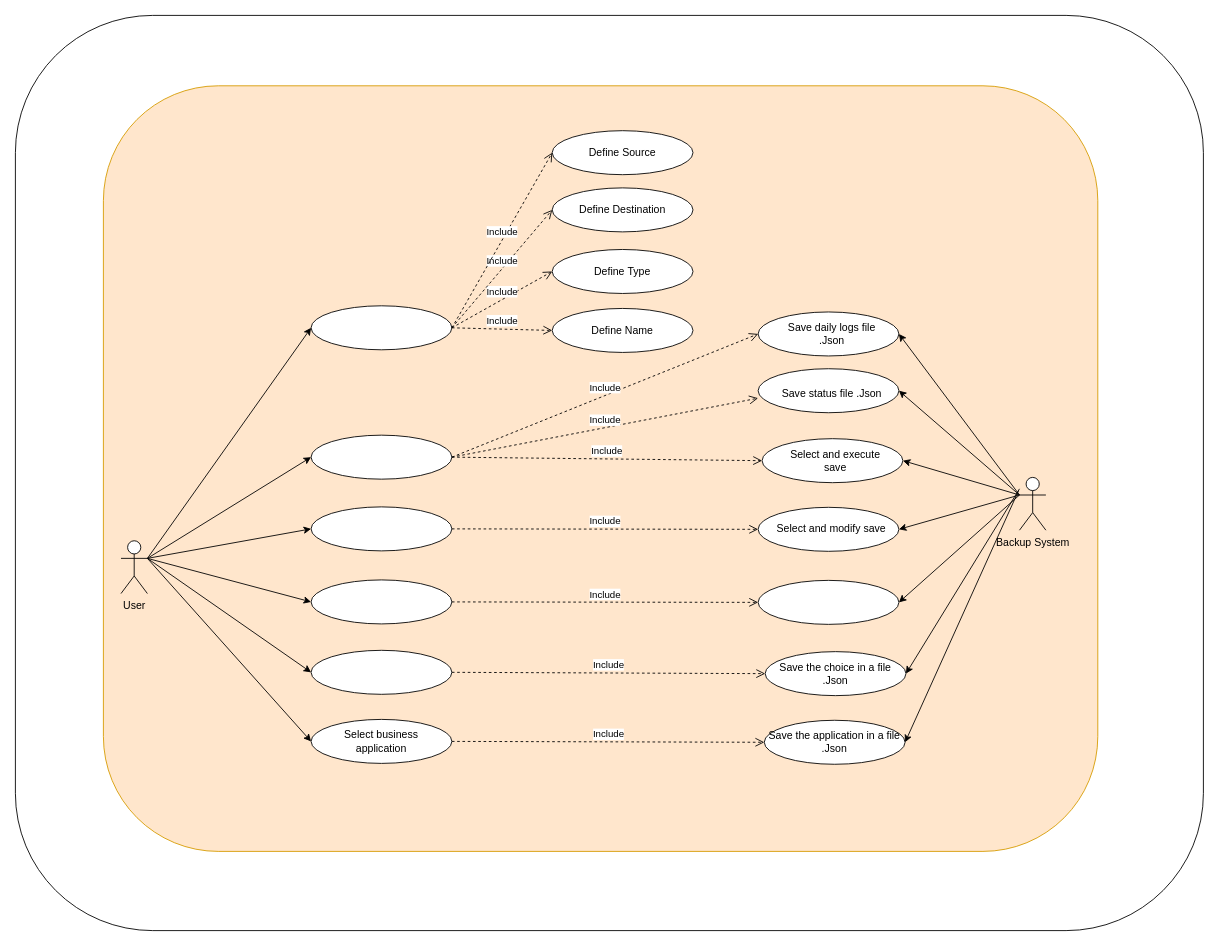
Image size: 1219x946. Some labels were removed from this diagram. Each missing label, with the centre of its shape:
Choose the language: point (381, 671)
Create Save: point (381, 327)
Delete Save: point (381, 601)
Execute one or more save: point (381, 456)
Modify Save: point (381, 528)
Select and delete save: point (828, 601)
